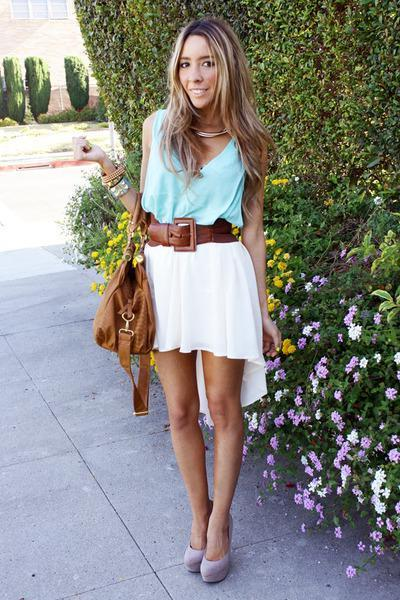skirt: (140, 240, 270, 418)
vest: (141, 105, 248, 228)
